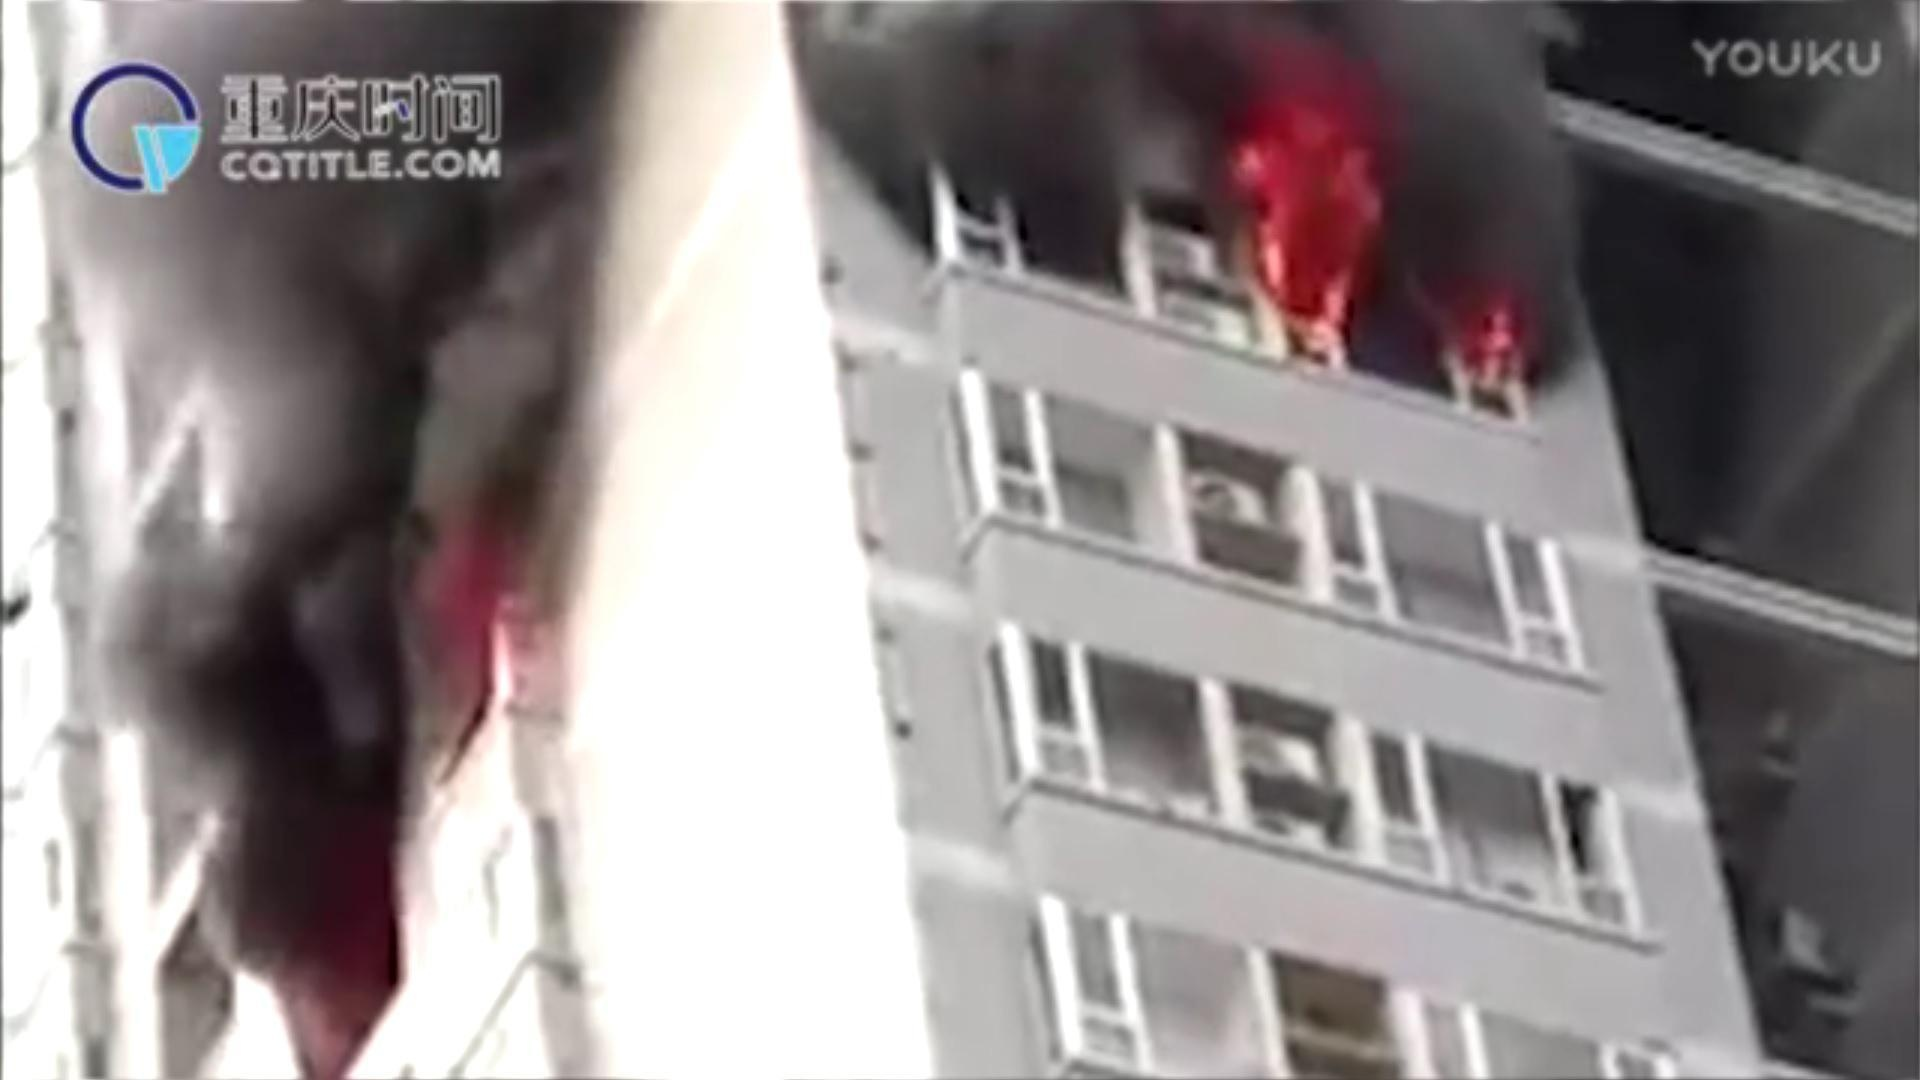fire: (1242, 109, 1389, 348), (1436, 278, 1549, 404)
